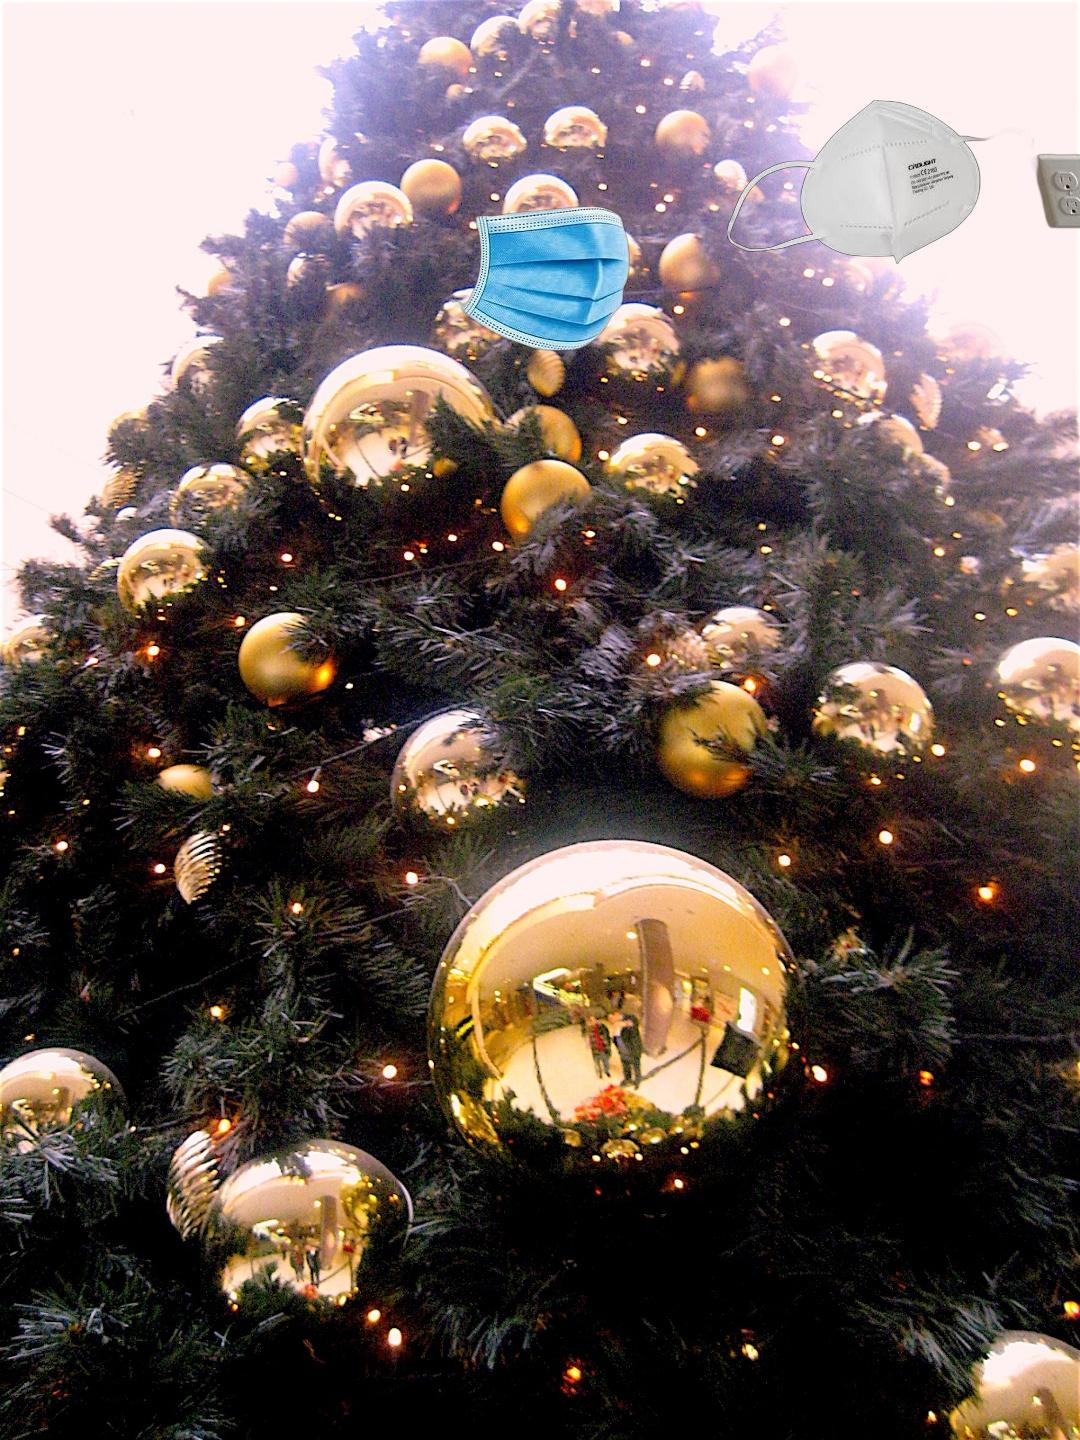paper-bag: (1028, 124, 1080, 235)
trash: (727, 100, 1033, 264), (414, 203, 632, 354)
